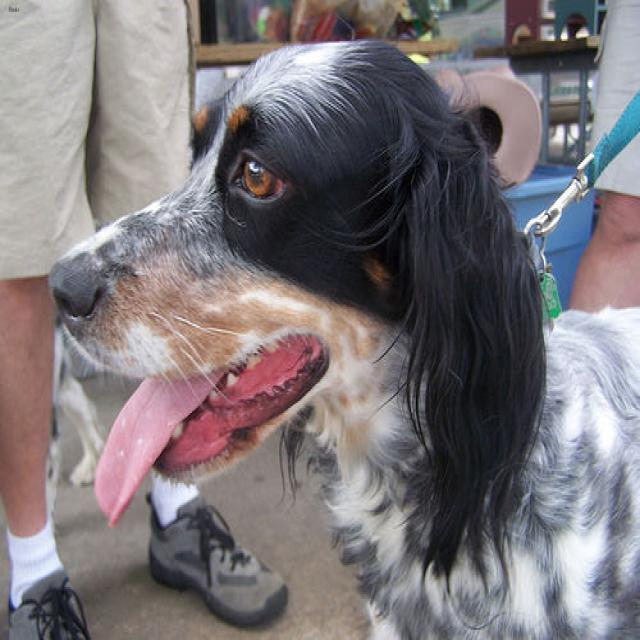dog-english_setter: (42, 36, 637, 637)
